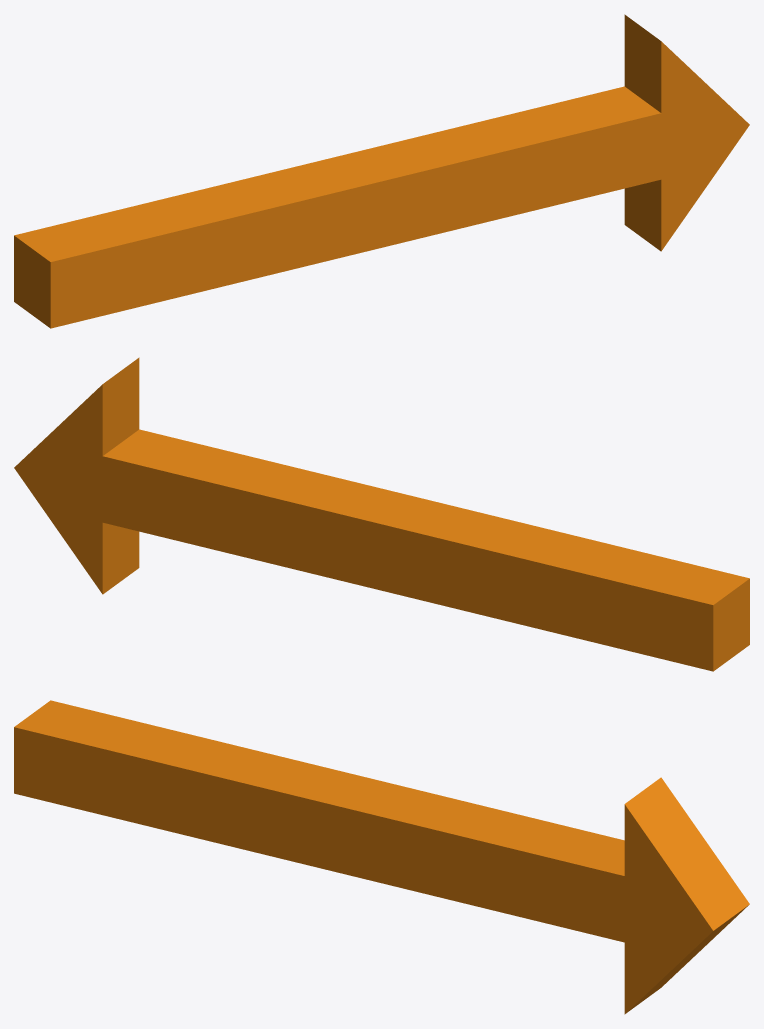
File: readMoreArrow.glb
3 renders of one model, top to bottom at view 1: azimuth 30°, elevation 25°; view 2: azimuth 150°, elevation 25°; view 3: azimuth 330°, elevation 25°, orthographic.
Visible parts, largest first — view 1: readMoreArrow; view 2: readMoreArrow; view 3: readMoreArrow.
Boxes of the visible parts, bbox=[...] form: readMoreArrow: bbox=[14, 14, 749, 328]; readMoreArrow: bbox=[14, 357, 749, 671]; readMoreArrow: bbox=[14, 700, 749, 1014].
Bounding box in the file's own units: 1.62 × 0.4658 × 0.1469.
